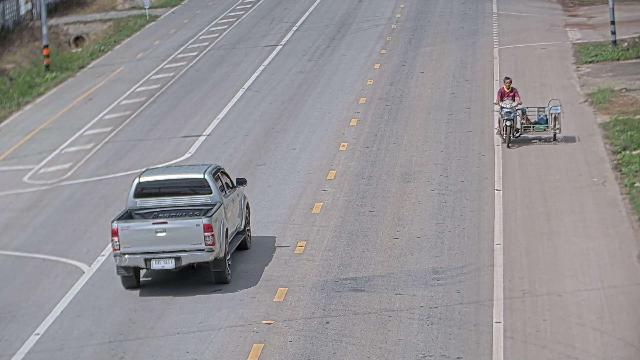pickup-truck: (110, 163, 252, 289)
